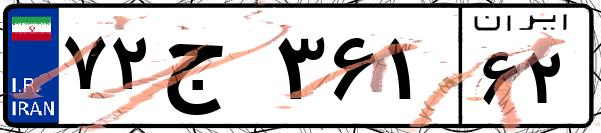1: (385, 28, 445, 110)
2: (525, 38, 570, 115), (110, 28, 158, 98)
3: (270, 28, 330, 110)
6: (330, 28, 385, 110), (475, 38, 525, 113)
7: (57, 26, 110, 100)
ج: (158, 20, 270, 120)
